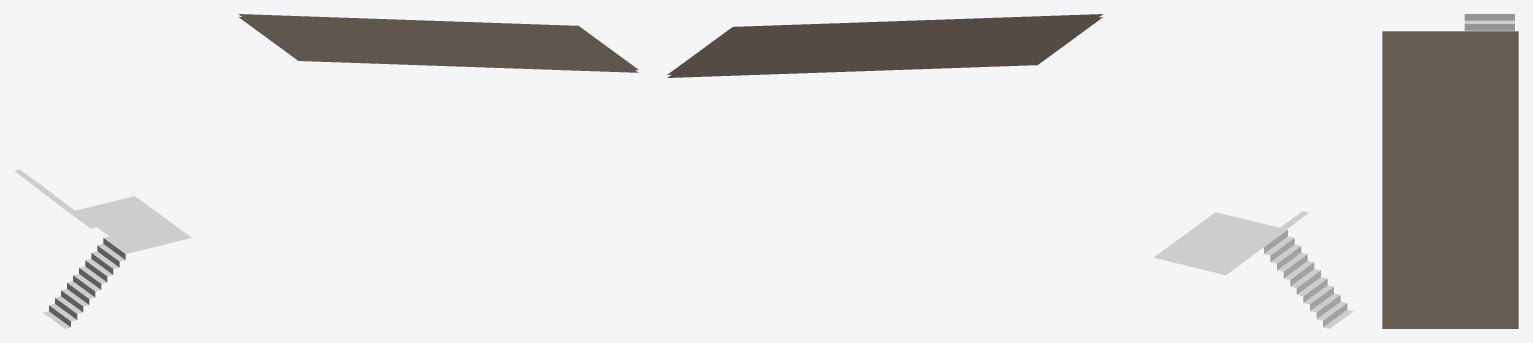
Rendered from Stairs.glb.
3 renders of one model, left to right at view 1: azimuth 30°, elevation 25°; view 2: azimuth 150°, elevation 25°; view 3: azimuth 270°, elevation 25°, orthographic. The views are drawn at different scales.
Visible parts, largest first — view 1: StairsSecondThirdFloor, StairsBackFirstFloorBetween, StairsBackFirstFloorEntry, StairsBackFirstFloorOut; view 2: StairsSecondThirdFloor, StairsBackFirstFloorBetween, StairsBackFirstFloorEntry, StairsBackFirstFloorOut; view 3: StairsSecondThirdFloor, StairsBackFirstFloorOut.
Part boxes in pixels (<box>): StairsSecondThirdFloor: <box>238,14,638,72</box>; StairsBackFirstFloorBetween: <box>75,196,191,252</box>; StairsBackFirstFloorEntry: <box>43,236,130,328</box>; StairsBackFirstFloorOut: <box>14,169,95,228</box>; StairsSecondThirdFloor: <box>667,14,1102,77</box>; StairsBackFirstFloorBetween: <box>1154,212,1279,273</box>; StairsBackFirstFloorEntry: <box>1264,229,1353,328</box>; StairsBackFirstFloorOut: <box>1219,211,1308,275</box>; StairsSecondThirdFloor: <box>1382,31,1518,328</box>; StairsBackFirstFloorOut: <box>1464,14,1514,31</box>.
Bounding box in the file's own units: 20.82 × 7.49 × 3.8.
